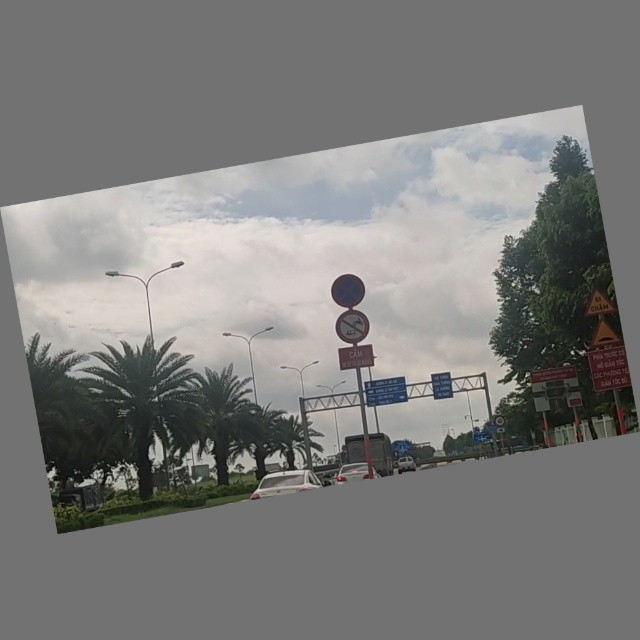P.111: (332, 307, 374, 347)
P.130: (324, 271, 370, 313)
W.221b: (587, 317, 623, 350)
W.245a: (580, 287, 617, 320)
